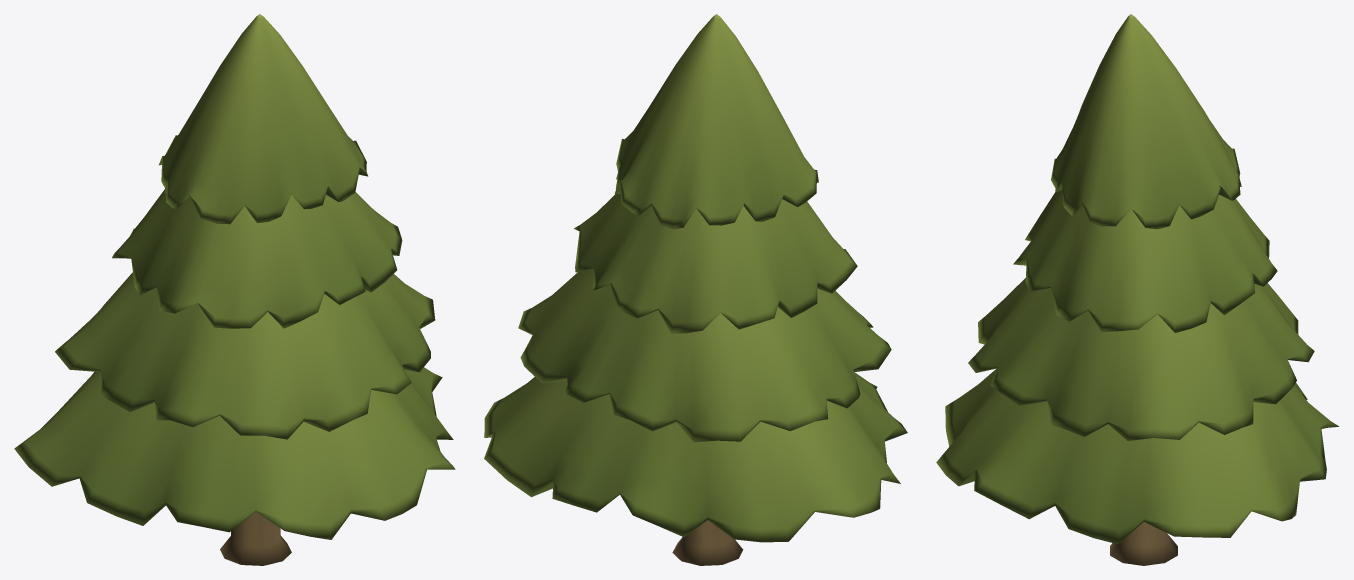
The model's file is forest_pine.glb.
The picture shows the model from 3 angles, left to right: view 1: azimuth 30°, elevation 25°; view 2: azimuth 150°, elevation 25°; view 3: azimuth 270°, elevation 25°; orthographic projection.
Parts seen in each view (by area): view 1: Occlude_Canopy_mesh, Keep_mesh; view 2: Occlude_Canopy_mesh, Keep_mesh; view 3: Occlude_Canopy_mesh, Keep_mesh.
Boxes of the visible parts, <box> form: Occlude_Canopy_mesh: <box>14,14,455,539</box>; Keep_mesh: <box>220,512,291,565</box>; Occlude_Canopy_mesh: <box>484,14,907,542</box>; Keep_mesh: <box>672,520,743,565</box>; Occlude_Canopy_mesh: <box>936,14,1338,544</box>; Keep_mesh: <box>1110,522,1177,565</box>.
Bounding box in the file's own units: 3.5 × 4.55 × 3.11.
